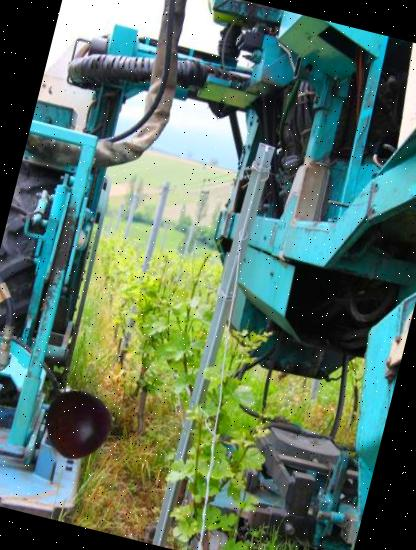Chestnut: (36, 384, 122, 470)
